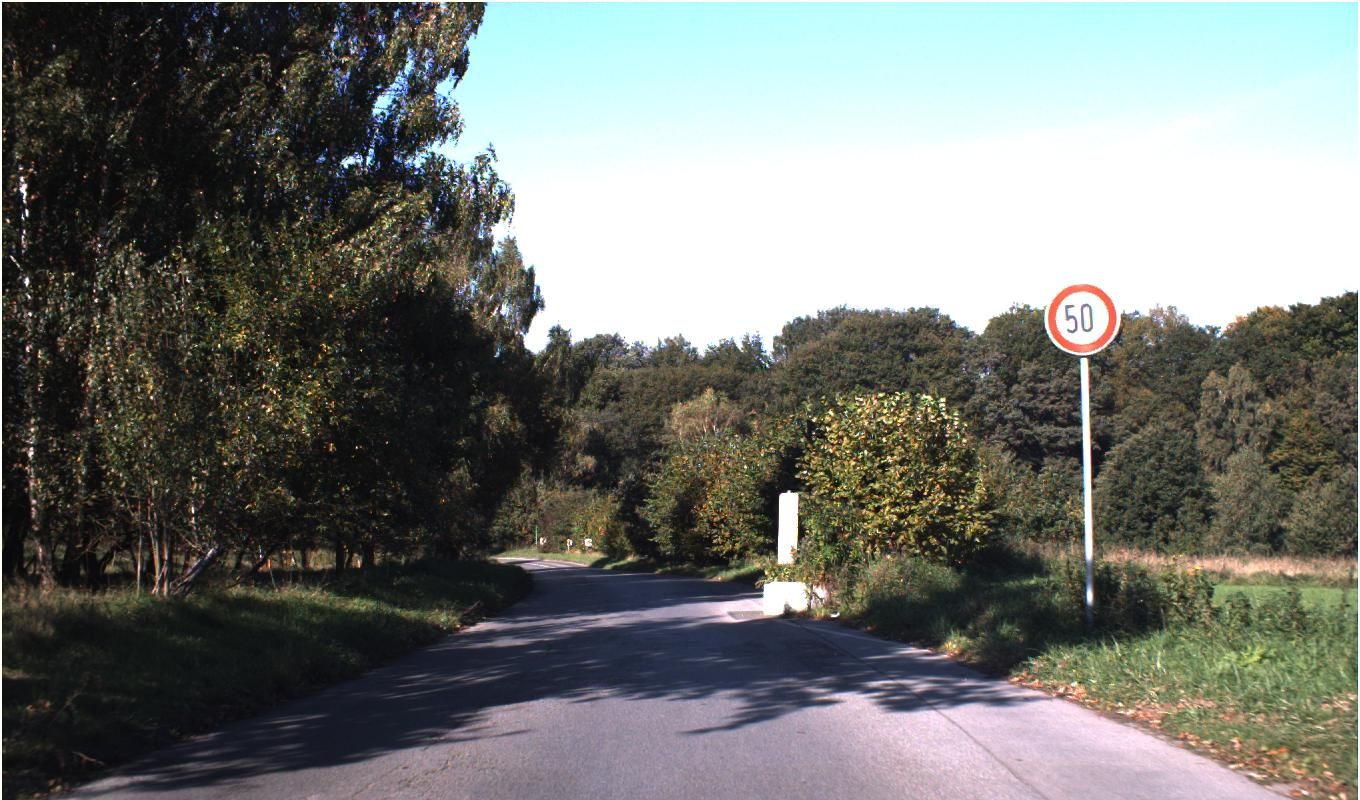prohibitory: (1043, 281, 1120, 356)
